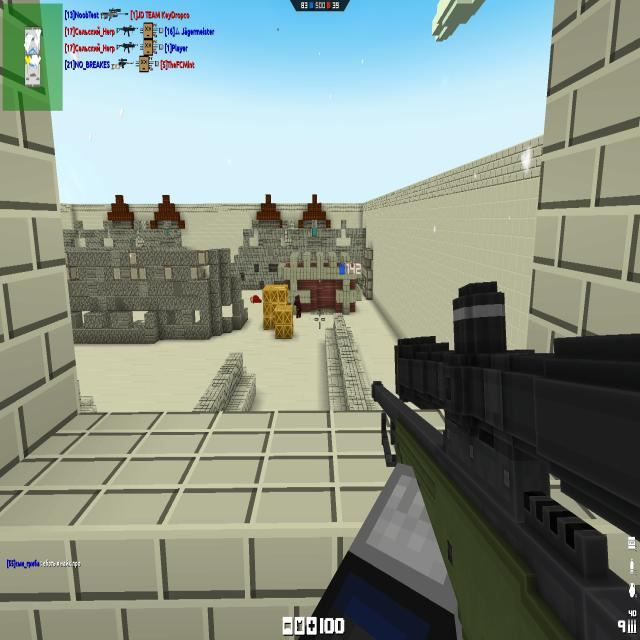player: (293, 294, 302, 319), (250, 295, 262, 304)
